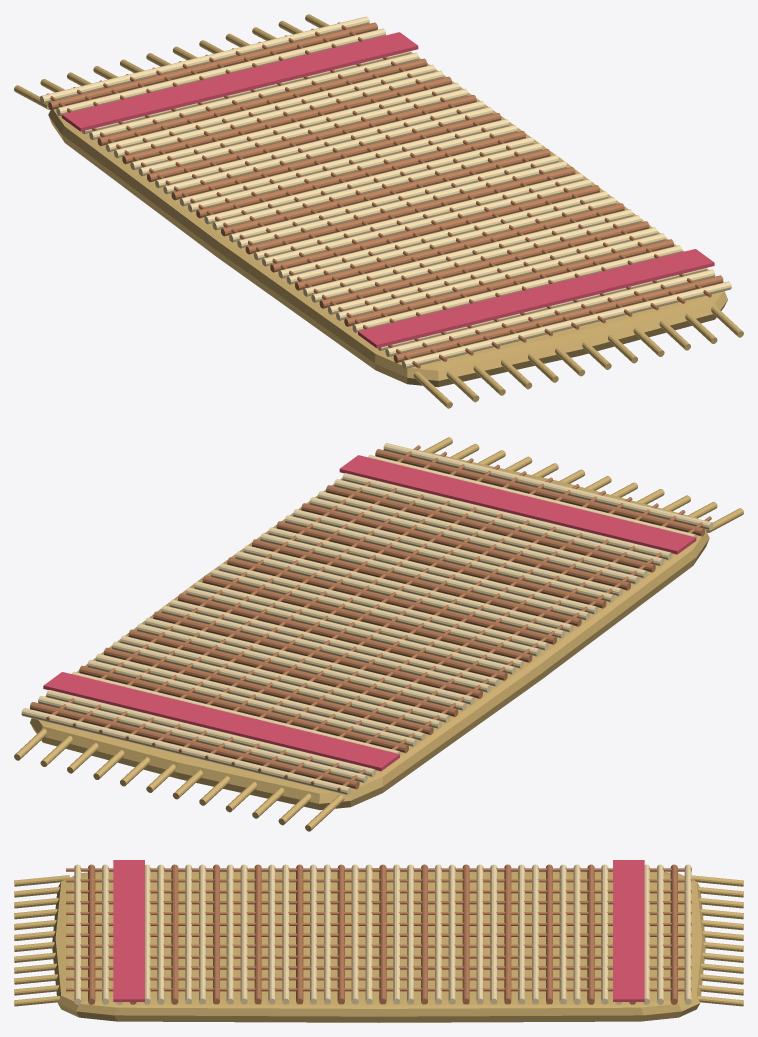
File: woven-beach-mat.glb
3 renders of one model, top to bottom at view 1: azimuth 30°, elevation 25°; view 2: azimuth 150°, elevation 25°; view 3: azimuth 270°, elevation 25°, orthographic. The views are drawn at different scales.
Visible parts, largest first — view 1: woven-beach-mat; view 2: woven-beach-mat; view 3: woven-beach-mat.
Part boxes in pixels (x1,y1,x2,y2): woven-beach-mat: (14, 14, 743, 408); woven-beach-mat: (14, 437, 743, 831); woven-beach-mat: (14, 860, 743, 1022).
Size of the model in its own units: 0.85 by 0.069 by 1.84.
